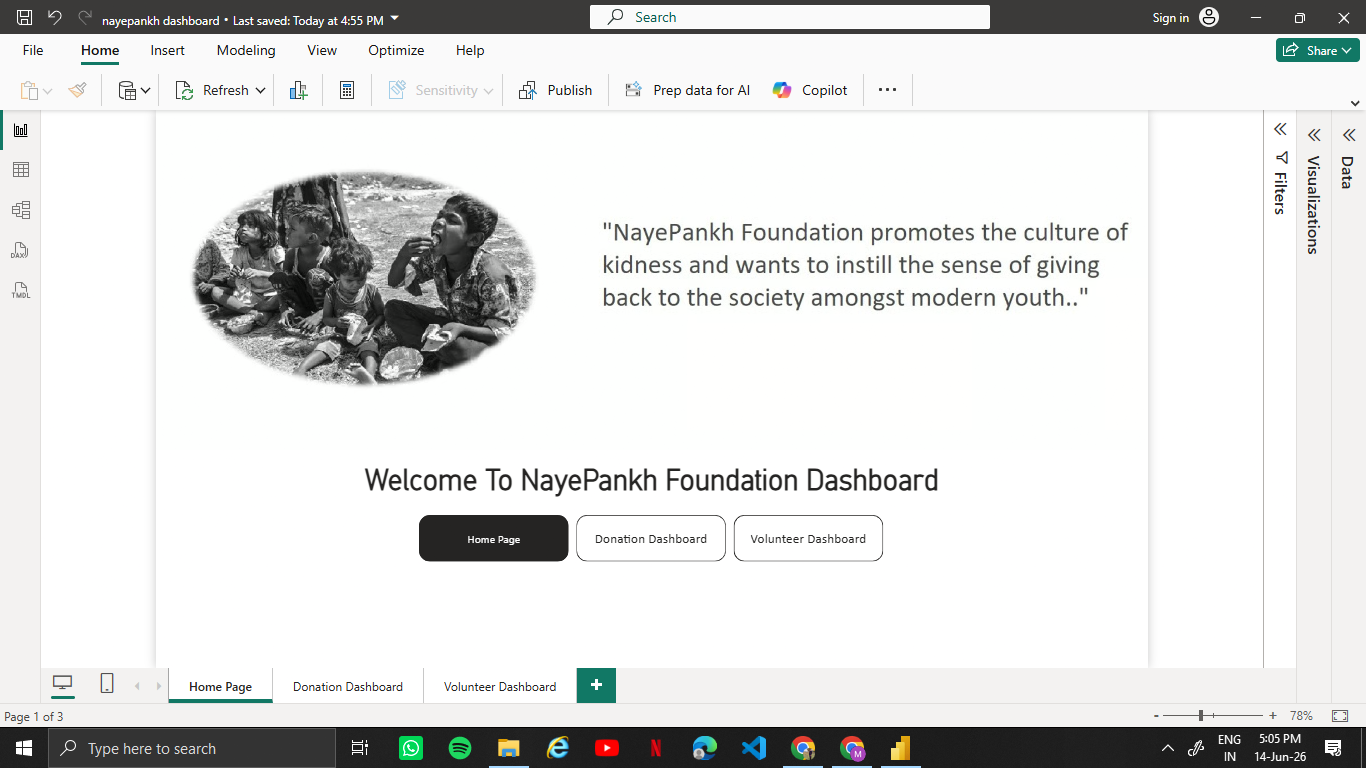

This screenshot's page, from the dashboard's own definition file:
{"tool":"powerbi","page":{"name":"Home Page","canvas":[1280,720],"ordinal":0},"visuals":[{"type":"image","box":[0,0,1279.8,439.4],"z":0},{"type":"textbox","box":[0,449.3,1279.8,58.1],"z":1000},{"type":"pageNavigator","box":[338.7,523,599.5,60.9],"z":2000}]}

Visuals, with their boxes on the page's 1280x720 design canvas (x1, y1, x2, y2). These are canvas units, not pixel positions in the 1366x768 screenshot, which may show the page scaled, cropped or inside an application window:
image: x1=0 y1=0 x2=1280 y2=439
textbox: x1=0 y1=449 x2=1280 y2=507
pageNavigator: x1=339 y1=523 x2=938 y2=584
